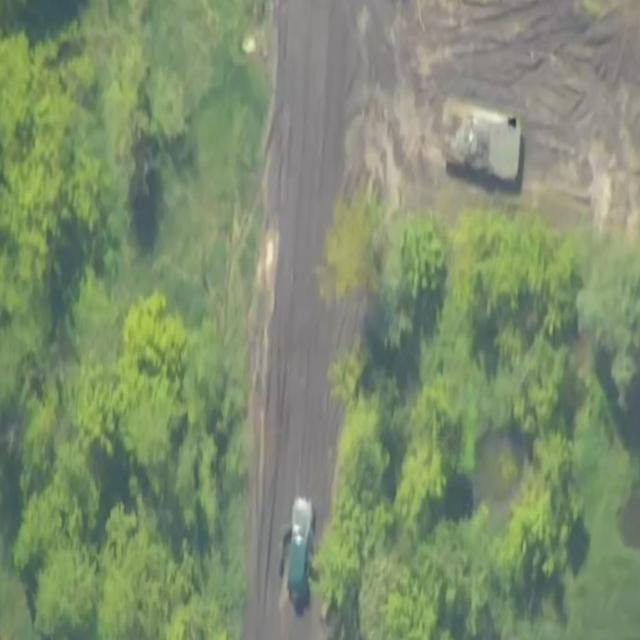AIFV: (442, 96, 526, 195)
Vehicle: (277, 493, 323, 611)
